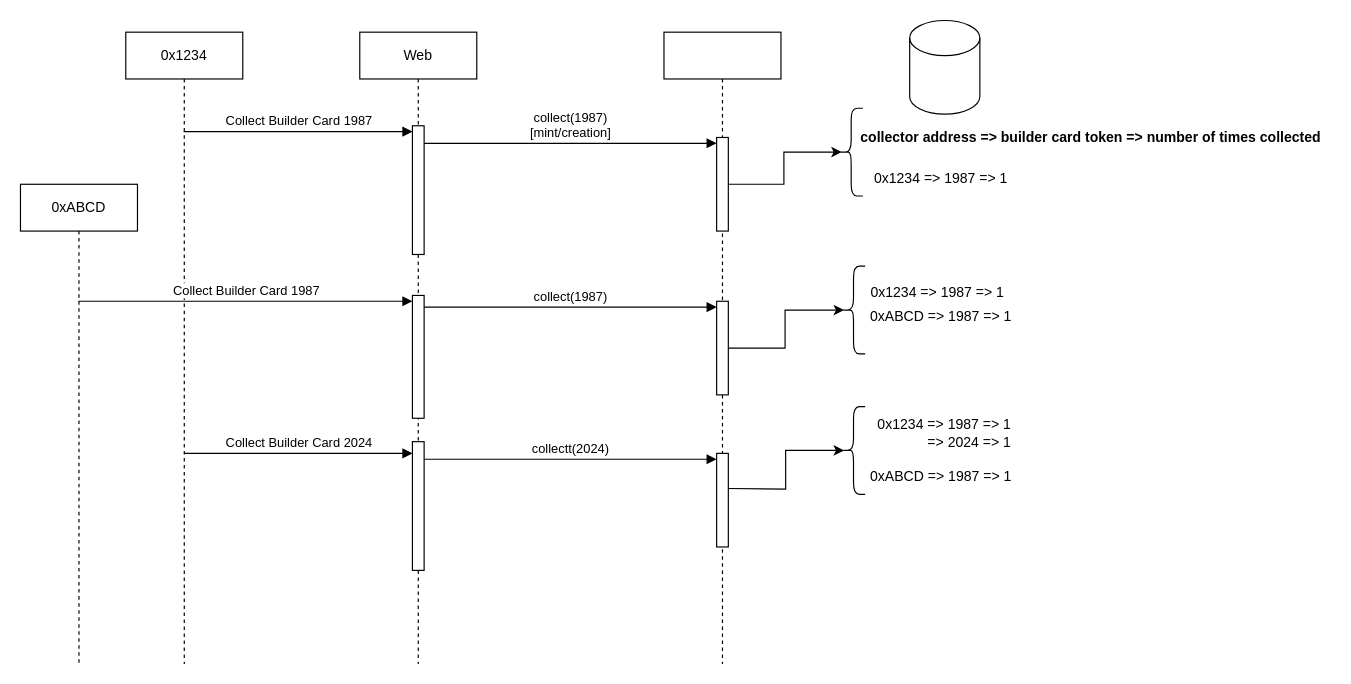
Image size: 1351x684. Some labels were removed from this diagram. Here are the shapes that lost their labels. From the top down, the box of each, then its label:
(909, 19, 980, 114): Smart Contract State
(663, 31, 781, 664): Smart Contract
